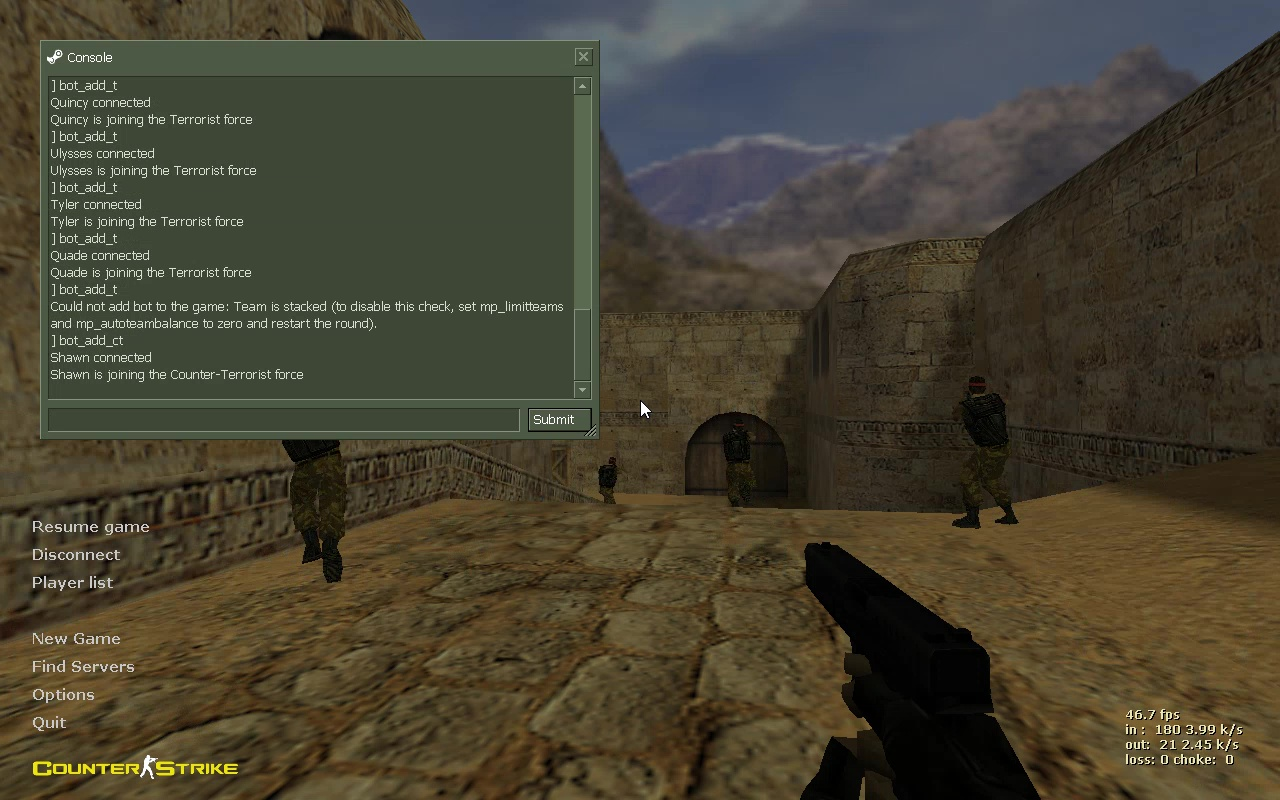terr1: (942, 375, 1023, 527), (720, 419, 759, 505), (594, 452, 621, 510)
